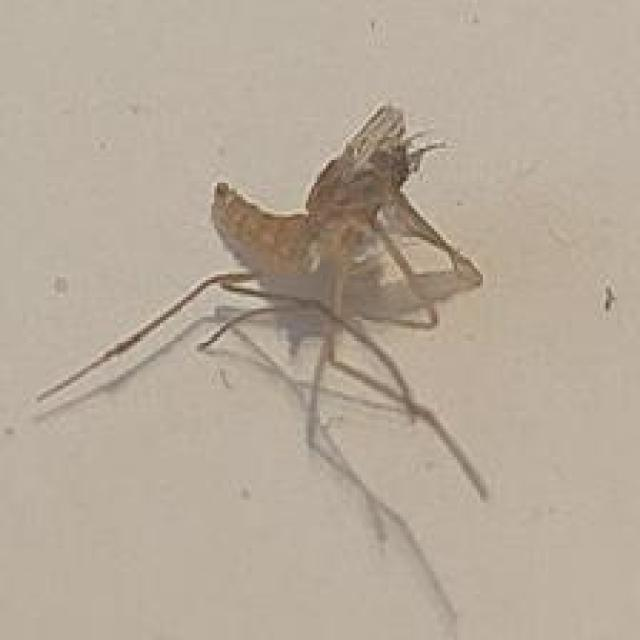Culex: (33, 100, 493, 640)
